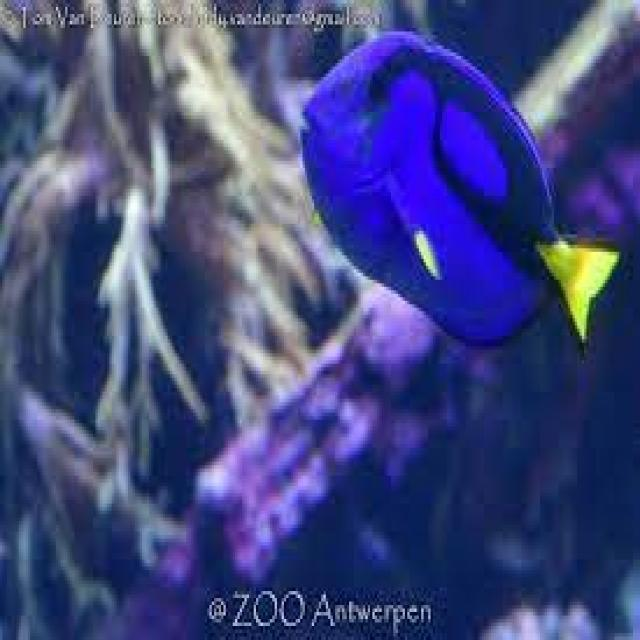TangFish: (299, 29, 618, 344)
